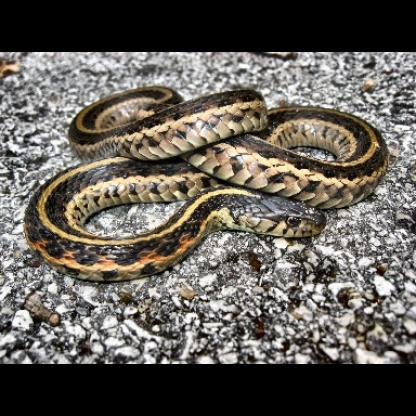Snake: (13, 87, 387, 280)
